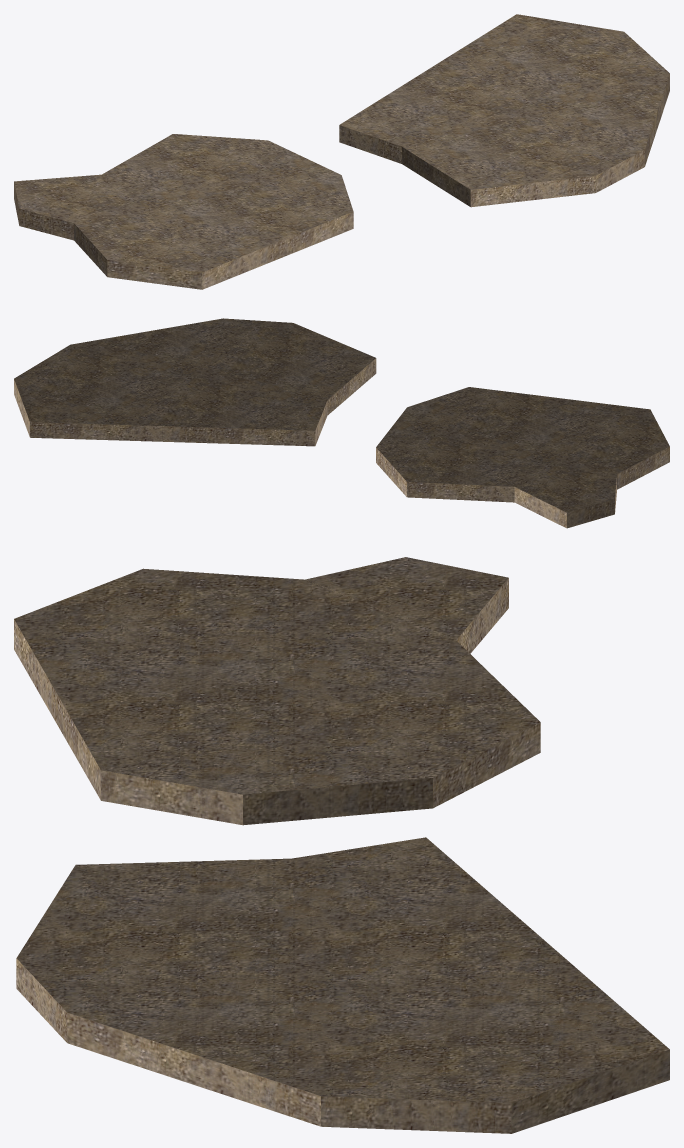
Rendered from rub.fbx.
3 renders of one model, top to bottom at view 1: azimuth 30°, elevation 25°; view 2: azimuth 150°, elevation 25°; view 3: azimuth 270°, elevation 25°, orthographic. The views are drawn at different scales.
Visible parts, largest first — view 1: rub; view 2: rub; view 3: rub.
Part boxes in pixels (left/top/right/bottom): rub: left=14, top=14, right=669, bottom=289; rub: left=14, top=318, right=669, bottom=528; rub: left=14, top=557, right=669, bottom=1133.
Bounding box in the file's own units: 91821 × 2400 × 46605.
